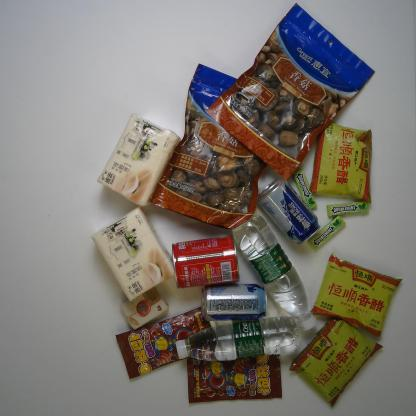Alcohol: (256, 177, 322, 246), (200, 282, 269, 322)
Candy: (113, 306, 213, 382), (184, 356, 284, 405)
Canned Food: (170, 235, 241, 290)
Dried Food: (202, 0, 378, 183), (150, 60, 268, 230)
Drink: (232, 213, 320, 332), (174, 314, 300, 362)
Gum: (307, 214, 347, 252), (292, 168, 318, 210), (326, 200, 372, 218)
Seasoner: (288, 316, 386, 409), (310, 251, 404, 338), (308, 122, 374, 206)
Tissue: (94, 111, 182, 208), (90, 206, 176, 302), (118, 287, 170, 331)
